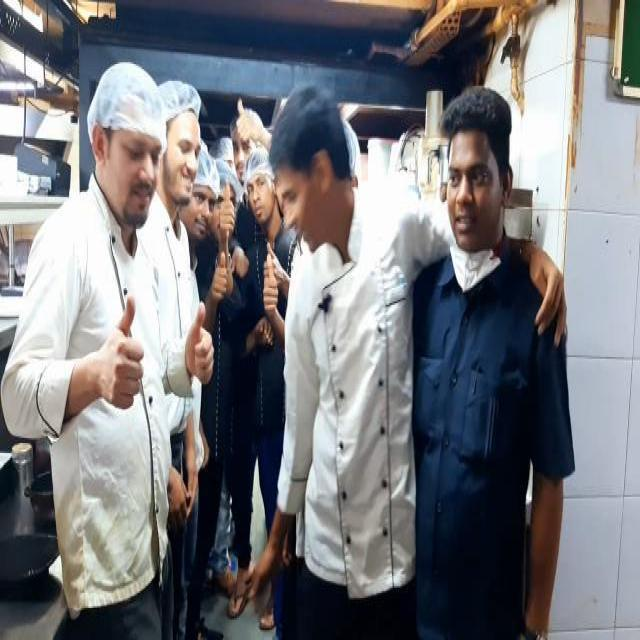bare_hand: (519, 241, 598, 376), (95, 290, 153, 416), (176, 305, 234, 418), (248, 536, 294, 620), (254, 248, 284, 325), (210, 246, 237, 313), (230, 88, 260, 143), (218, 175, 244, 232)
